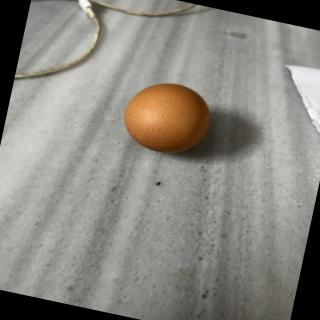Telur: (114, 74, 222, 165)
